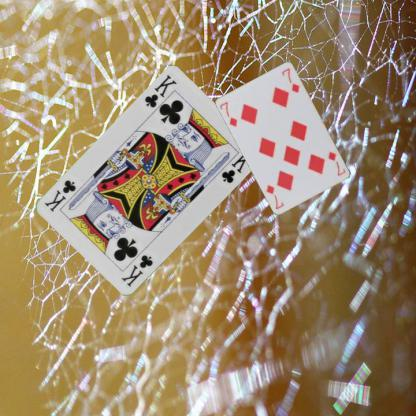7d: (217, 100, 239, 128), (326, 149, 347, 177)
Kc: (142, 72, 178, 110), (118, 252, 154, 289)
